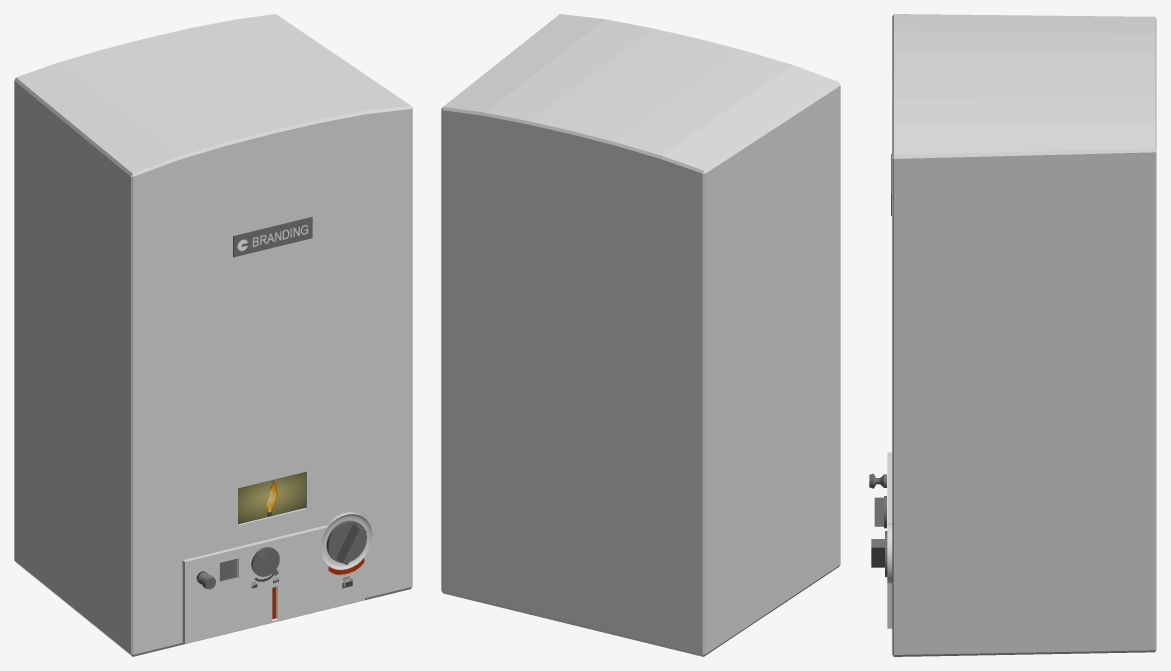
The model's file is boiler-combi-24.glb.
3 views of the same model, side by side, from view 1: azimuth 30°, elevation 25°; view 2: azimuth 150°, elevation 25°; view 3: azimuth 270°, elevation 25° (orthographic). The views are drawn at different scales.
Parts seen in each view (by area): view 1: Object_2, Object_6; view 2: Object_2; view 3: Object_2, Object_6.
Boxes of the visible parts, x1,y1,x2,y2 form: Object_2: (14, 14, 412, 656); Object_6: (196, 520, 366, 589); Object_2: (441, 14, 840, 656); Object_2: (887, 14, 1156, 656); Object_6: (869, 473, 887, 577).
Bounding box in the file's own units: 0.4191 × 0.7 × 0.3567.
2 materials, 1 textured.
